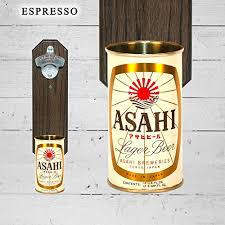beer: (98, 41, 189, 195)
